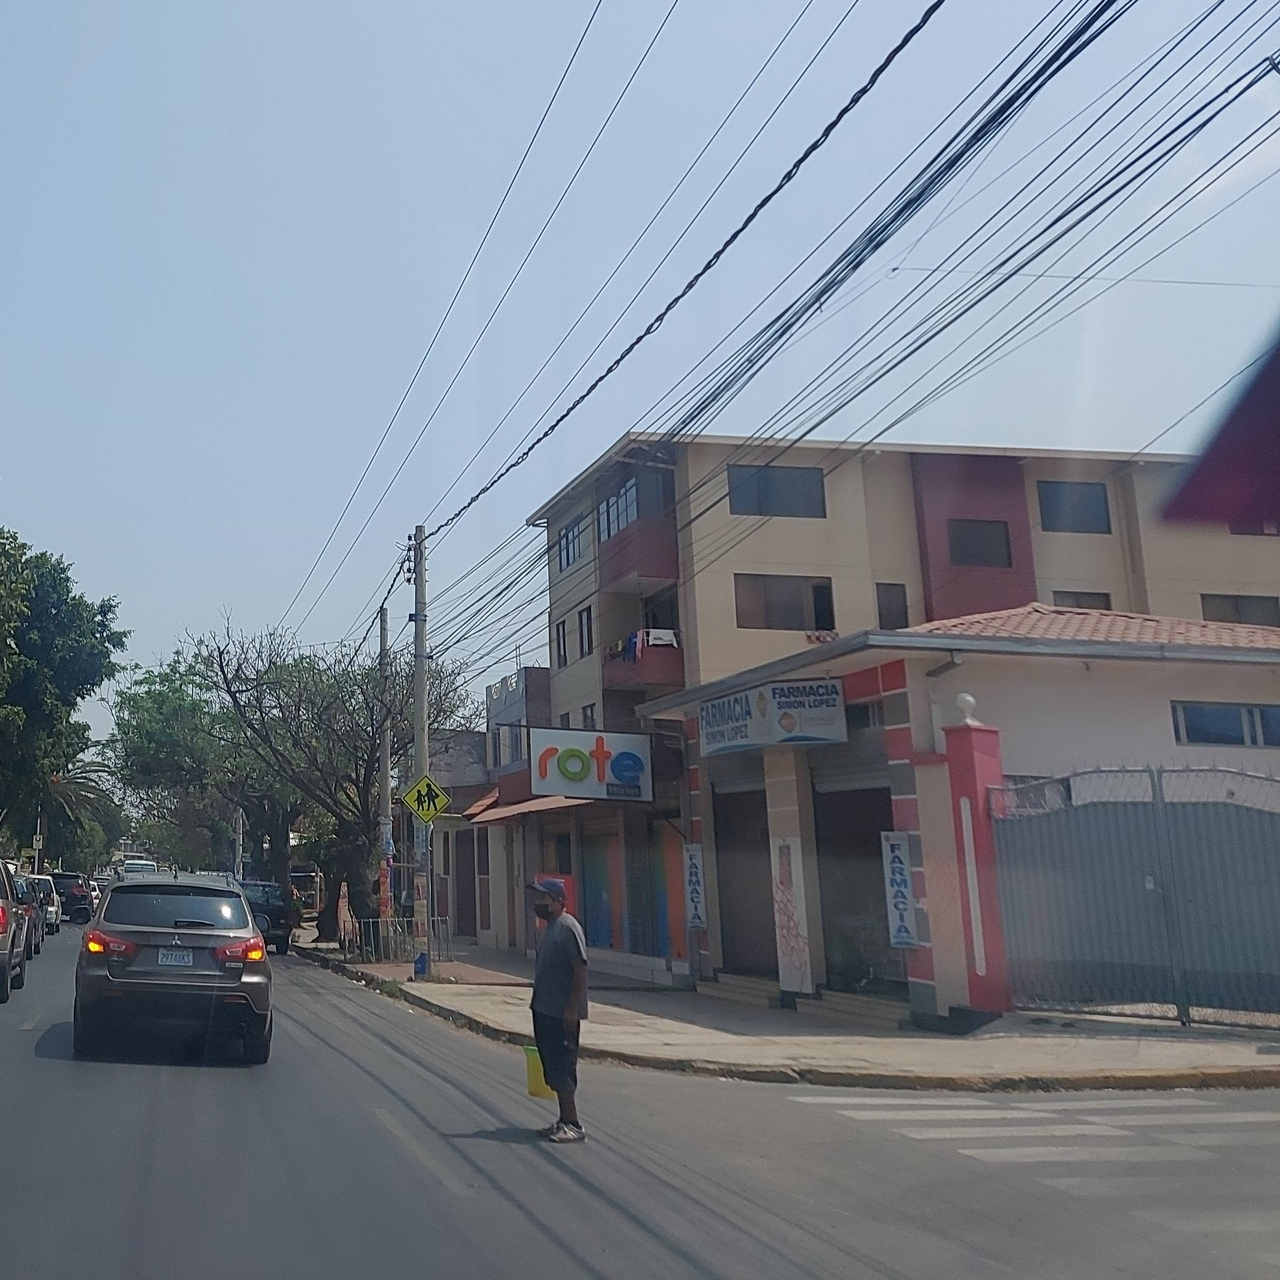zona-escolar: (401, 776, 449, 826)
